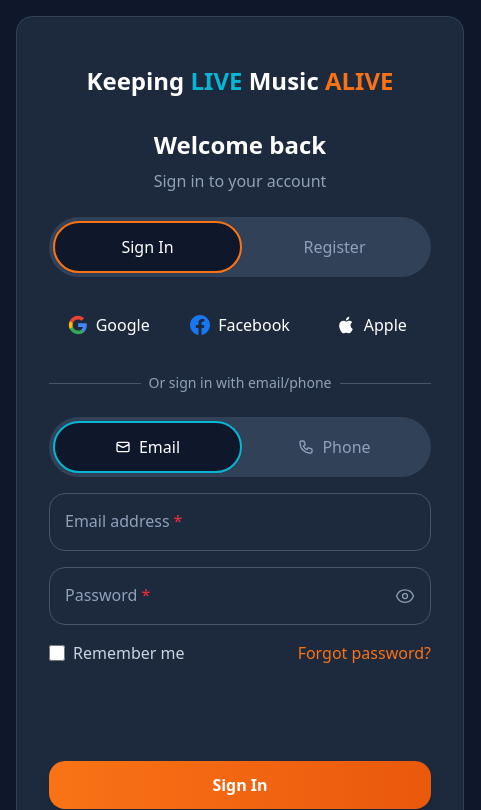
AuthPage Integration › Mode Switching › should switch between login and register modes
Make sure we start in register mode
Click the tab with test id "auth-form-tabs-register" at (334, 247), box [242, 221, 427, 273]
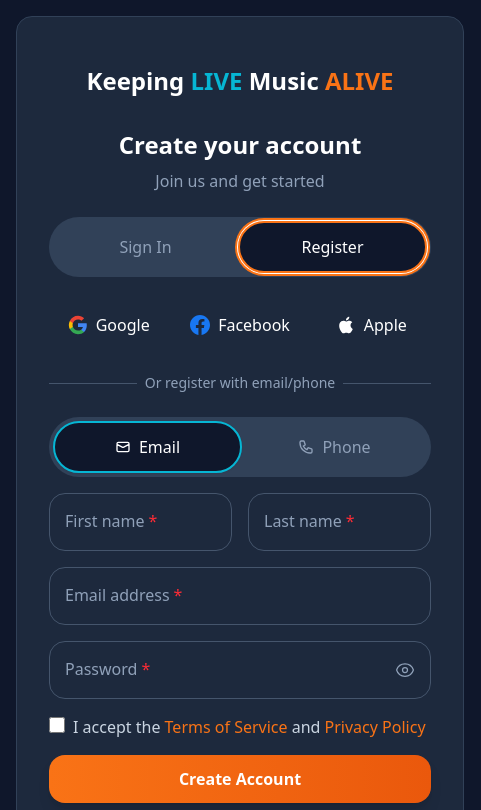
Check: the field with test id "auth-form-first-name-input" is shown, box [49, 493, 232, 551]
Switch to login mode
Click the tab with test id "auth-form-tabs-login" at (146, 247), box [53, 221, 238, 273]
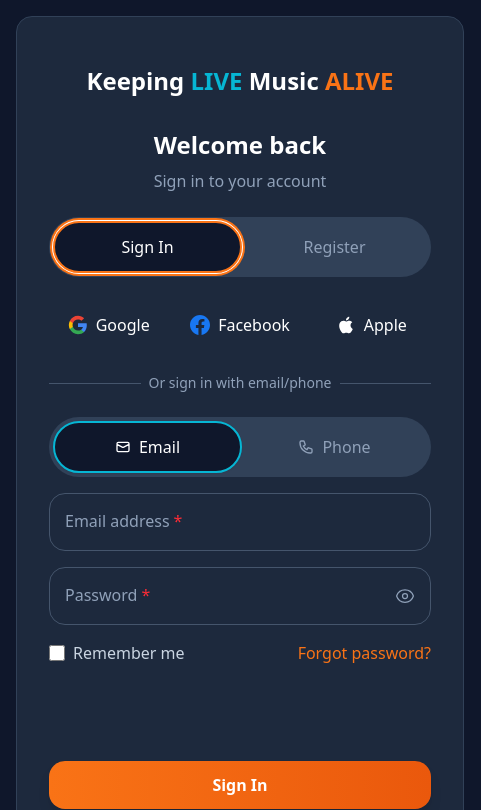
Check: the field with test id "auth-form-first-name-input" is gone
Check: the checkbox with test id "auth-form-remember-me" is shown, box [49, 645, 65, 661]
